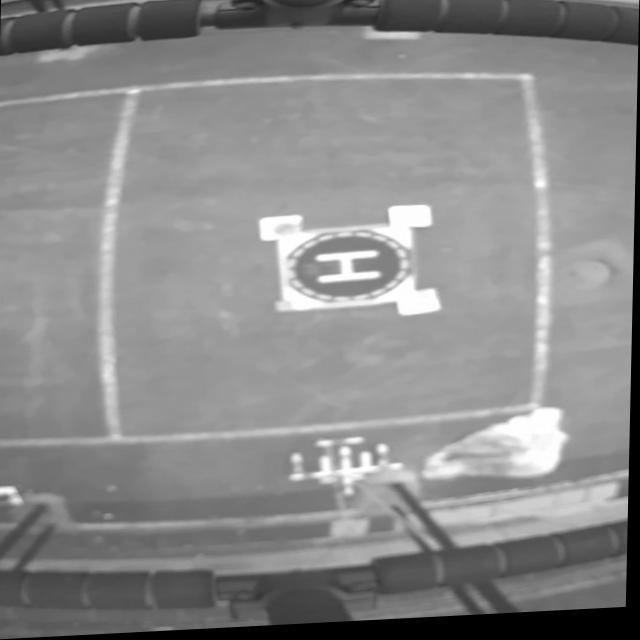Helipad: (317, 254, 380, 287)
